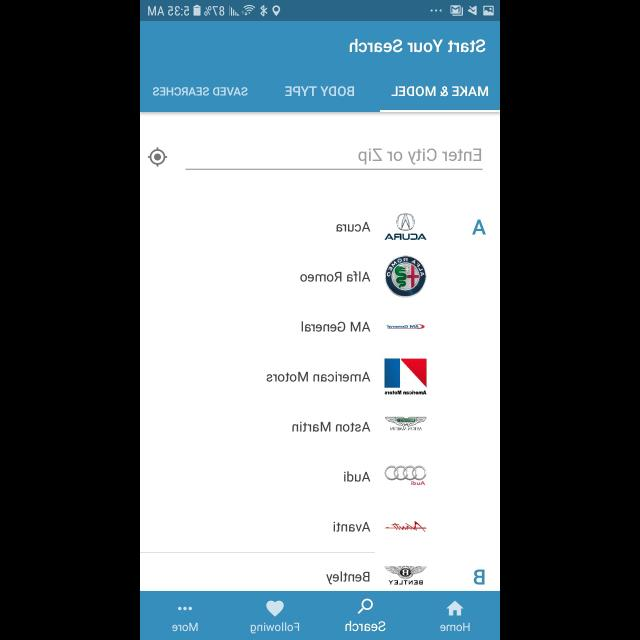icon: (148, 148, 166, 166), (445, 600, 463, 616), (266, 600, 284, 616), (357, 598, 373, 614), (178, 606, 192, 610)
image: (384, 255, 426, 298), (384, 359, 426, 395), (384, 213, 426, 240), (384, 465, 426, 485), (384, 565, 426, 585), (385, 417, 427, 431), (385, 522, 427, 532), (386, 323, 424, 329)
input: (185, 148, 482, 170)
text: (358, 148, 480, 164), (349, 39, 485, 53), (392, 86, 488, 98), (266, 372, 370, 382), (152, 87, 248, 97), (284, 86, 354, 98), (292, 422, 370, 432), (300, 272, 370, 282), (302, 322, 371, 332), (326, 571, 370, 585), (250, 622, 300, 634), (344, 620, 386, 632), (334, 520, 371, 532), (336, 222, 370, 232), (440, 621, 470, 631), (344, 471, 371, 482), (172, 622, 198, 632), (471, 219, 485, 235), (474, 570, 484, 584)
uppertaskbar: (140, 1, 500, 22)
